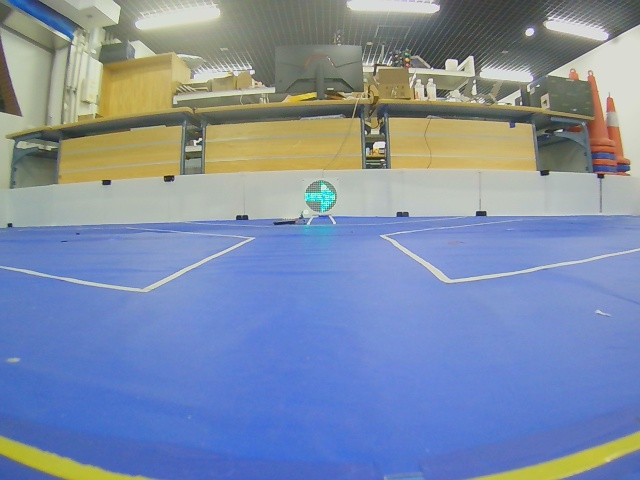right_green: (304, 180, 337, 213)
